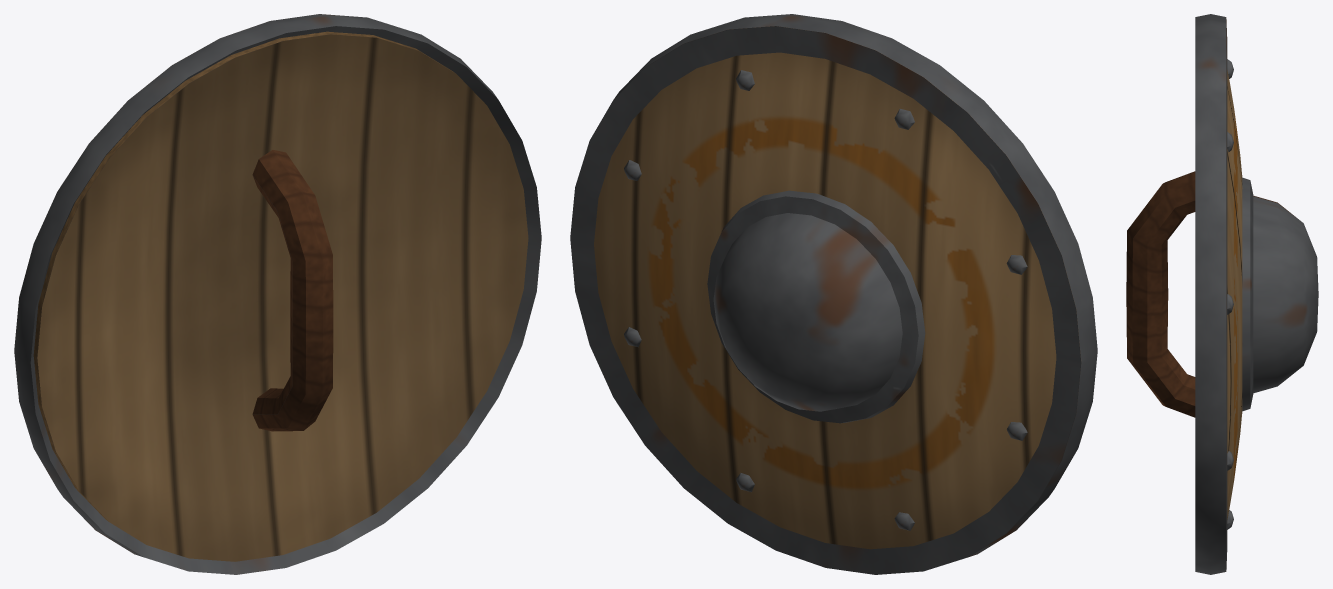
The model's file is SM_Weapon_StarterBuckler.fbx.
3 views of the same model, side by side, from view 1: azimuth 30°, elevation 25°; view 2: azimuth 150°, elevation 25°; view 3: azimuth 270°, elevation 25° (orthographic). The views are drawn at different scales.
Visible parts, largest first — view 1: SM_Weapon_StarterBuckler; view 2: SM_Weapon_StarterBuckler; view 3: SM_Weapon_StarterBuckler.
Boxes of the visible parts, x1,y1,x2,y2 form: SM_Weapon_StarterBuckler: [14, 14, 541, 574]; SM_Weapon_StarterBuckler: [570, 14, 1097, 574]; SM_Weapon_StarterBuckler: [1126, 14, 1318, 574].
Bounding box in the file's own units: 0.362 × 0.362 × 0.1239.
